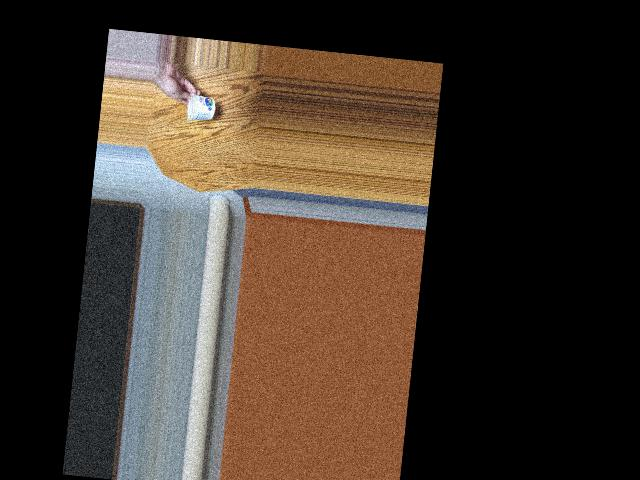cotage: (184, 91, 215, 125)
